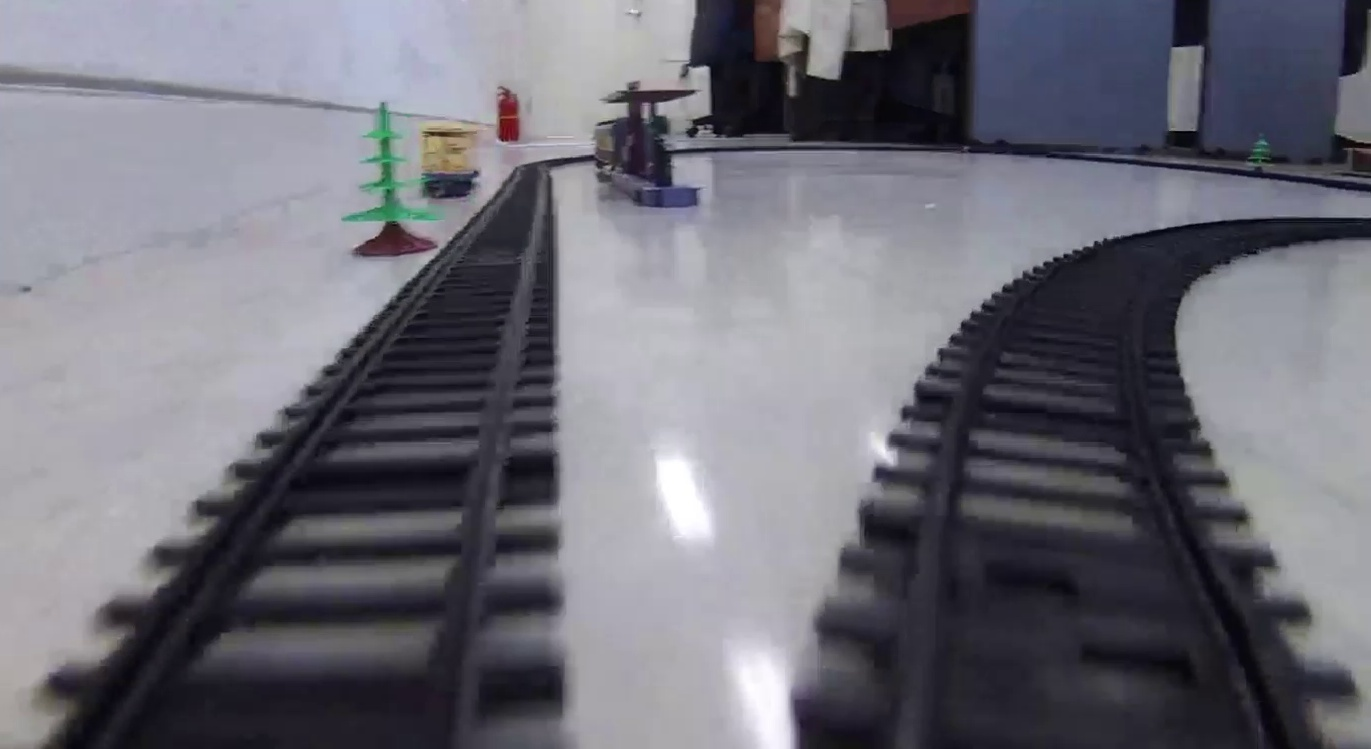tree: (339, 102, 439, 256)
